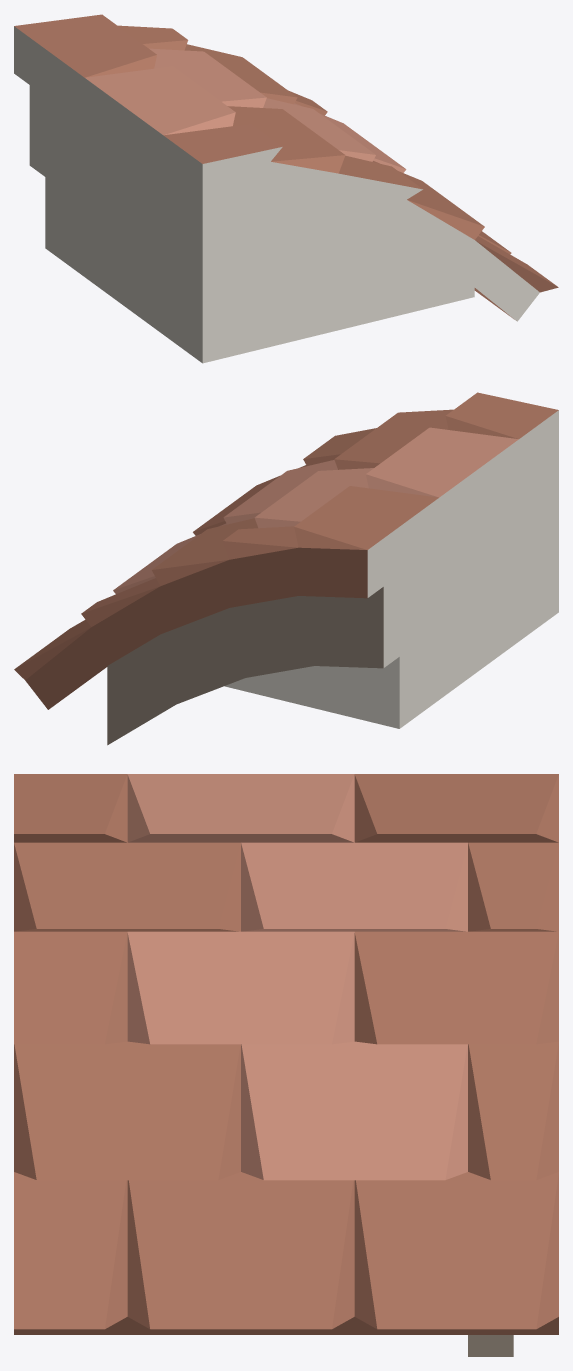
Rendered from Roof_Convex_Side_Eave_Edge.glb.
3 views of the same model, one above another, from view 1: azimuth 30°, elevation 25°; view 2: azimuth 150°, elevation 25°; view 3: azimuth 270°, elevation 25° (orthographic). The views are drawn at different scales.
Parts seen in each view (by area): view 1: Roof_Convex_Side_Eave_Edge; view 2: Roof_Convex_Side_Eave_Edge; view 3: Roof_Convex_Side_Eave_Edge.
Part boxes in pixels (bbox=[...]): Roof_Convex_Side_Eave_Edge: bbox=[14, 14, 558, 363]; Roof_Convex_Side_Eave_Edge: bbox=[14, 392, 558, 745]; Roof_Convex_Side_Eave_Edge: bbox=[14, 774, 558, 1356].
Size of the model in its own units: 1.31 by 0.9495 by 1.2.
